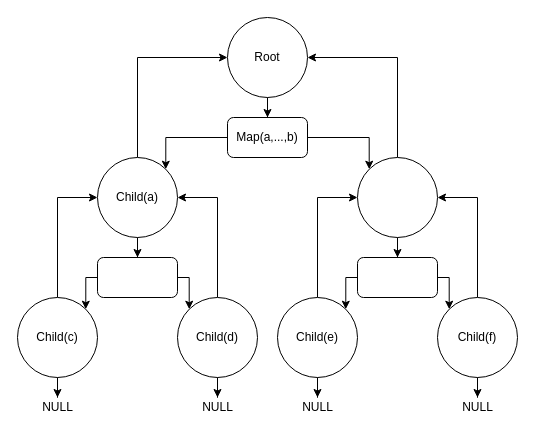
Image size: 535x435. Some labels were removed from this diagram. Each missing label, with the centre of its shape:
Child(b): point 397,197
Map(c,...,d): point 137,277
Map(e,...,f): point 397,277
